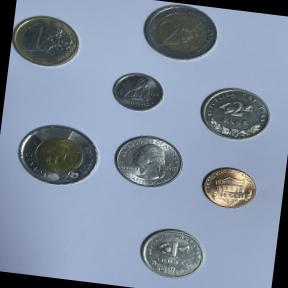1 Euro: (8, 9, 88, 75)
2 Euro: (133, 0, 227, 68)
Canda-10cent-: (106, 66, 170, 119)
Canda-2Dollar-: (9, 117, 110, 197)
Croatia-2Kune-: (193, 80, 277, 148)
US-1cent-: (194, 159, 264, 217)
US-25cent-: (106, 128, 190, 196)
